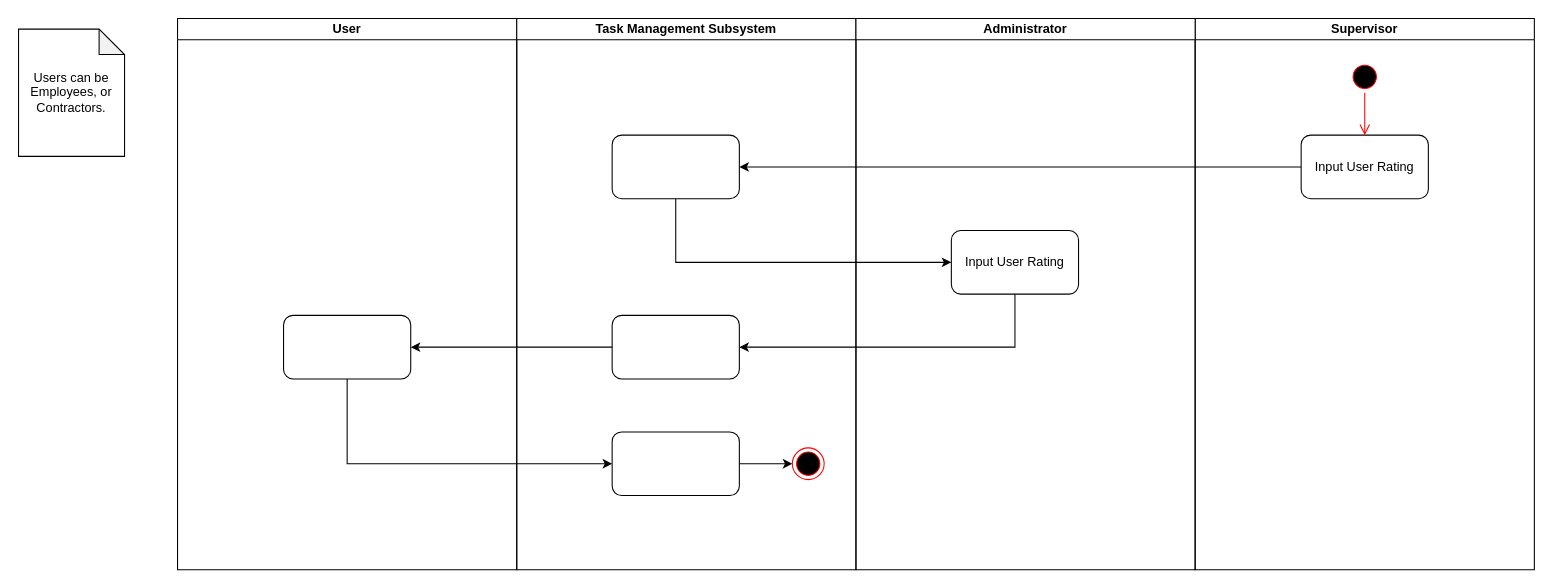
This 1553x588 diagram has some shape labels left out. Here are the shapes that lost their labels. From the top down, the centre of each, then its label:
At point (675, 166): "Notify Administrator of User Rating Needed".
At point (346, 346): "Input Fellow Users Ratings".
At point (675, 346): "Notify User of Ratings Needed".
At point (675, 463): "Update User Rating".
